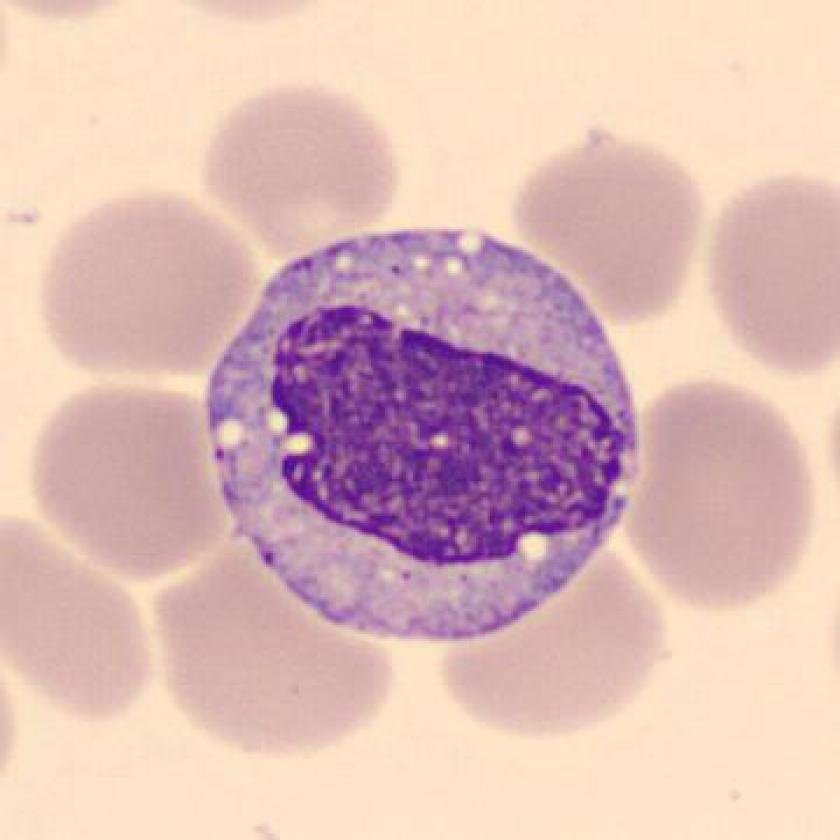monocyte: (188, 205, 661, 668)
